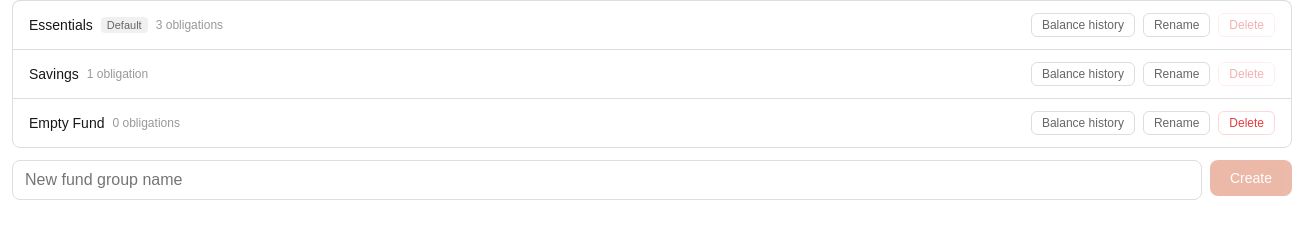
FundsSection › renames a fund group via inline editing
Expected: the text "Savings" is shown, 29,66 -> 79,82
Click the button "Rename" in the row of "Savings" at (1177, 74), box 1143,62 -> 1210,86
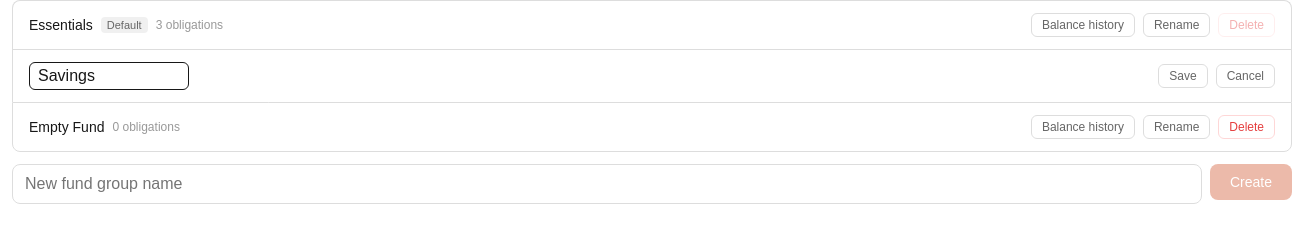
Replace the text in the field named "Fund group name" with "Investments" at (109, 76), box 29,62 -> 189,90
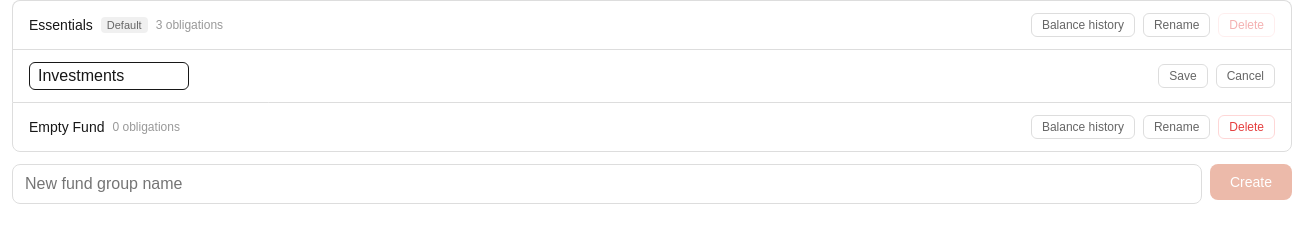
Click the button "Save" at (1183, 76), box 1158,64 -> 1208,88
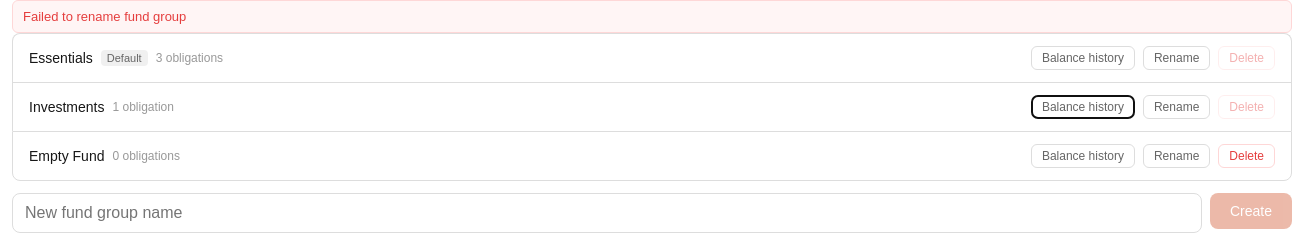
Expected: the text "Investments" is shown, 29,99 -> 104,115
